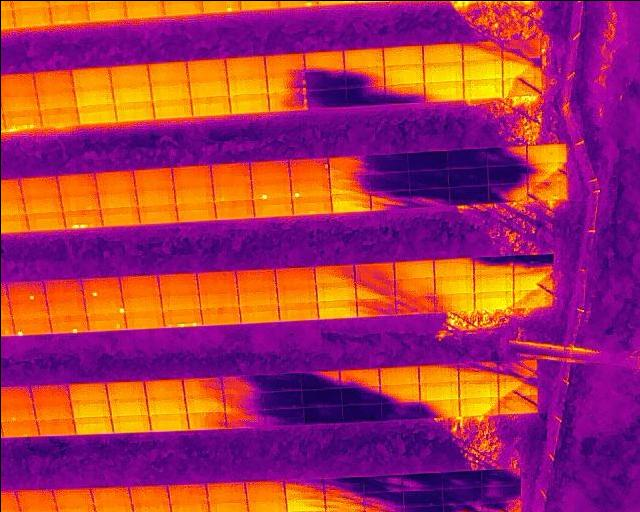Cell: (5, 281, 45, 302), (80, 277, 121, 297), (251, 179, 290, 199), (291, 177, 330, 197), (83, 296, 124, 315), (86, 314, 126, 332), (11, 318, 50, 335), (48, 316, 87, 333), (0, 403, 34, 420)
Cell-Multi: (3, 109, 41, 128), (162, 310, 202, 326)
No-Anomaly: (157, 273, 198, 295), (246, 481, 285, 504), (198, 270, 237, 293), (237, 268, 276, 291), (118, 276, 160, 297), (206, 482, 246, 504), (34, 70, 74, 92), (168, 483, 206, 506), (43, 279, 84, 300), (149, 61, 188, 83), (425, 80, 464, 102), (464, 77, 503, 99), (462, 59, 502, 80), (383, 45, 423, 66), (383, 63, 423, 84), (303, 49, 344, 69), (91, 486, 130, 507), (130, 485, 169, 506), (423, 61, 462, 82), (172, 164, 211, 185), (72, 68, 111, 89), (110, 64, 149, 85), (418, 362, 458, 382), (434, 274, 474, 294), (434, 257, 474, 277), (343, 47, 383, 67), (330, 192, 370, 212), (17, 491, 55, 512), (134, 165, 172, 186), (229, 92, 267, 113), (275, 266, 314, 286), (226, 54, 265, 74), (459, 397, 498, 417), (52, 488, 91, 508), (57, 172, 96, 192), (211, 162, 250, 182), (250, 159, 289, 179), (289, 156, 328, 176), (191, 95, 230, 115), (228, 74, 267, 94), (143, 378, 184, 397), (75, 86, 112, 107), (176, 201, 214, 221), (214, 198, 252, 218), (187, 59, 225, 79), (422, 43, 462, 62), (110, 413, 150, 432), (77, 102, 115, 122), (153, 97, 191, 117), (379, 364, 418, 383), (474, 290, 513, 309), (253, 199, 292, 218), (115, 100, 154, 119), (49, 3, 86, 23), (28, 383, 69, 401), (138, 204, 176, 223), (528, 143, 566, 162), (474, 273, 514, 291), (146, 395, 186, 413), (21, 174, 57, 194), (101, 206, 138, 225), (61, 191, 98, 210), (201, 306, 240, 324), (279, 302, 318, 320), (317, 300, 356, 318), (9, 299, 48, 317), (394, 259, 433, 277), (123, 0, 162, 18), (106, 381, 145, 399), (136, 185, 175, 203), (96, 170, 135, 188), (112, 85, 151, 103), (0, 73, 35, 93), (67, 382, 108, 399), (27, 211, 63, 230), (23, 194, 61, 212), (174, 183, 212, 201), (151, 81, 189, 99), (316, 282, 356, 299), (73, 416, 113, 433), (148, 413, 188, 430), (32, 402, 72, 419), (69, 399, 109, 416), (458, 380, 498, 397), (99, 188, 136, 206), (13, 8, 48, 27), (46, 299, 85, 316), (238, 289, 277, 306), (292, 197, 331, 214), (265, 53, 304, 70), (419, 381, 458, 398), (212, 182, 251, 199), (36, 92, 77, 108), (187, 412, 225, 429), (41, 108, 79, 125), (108, 399, 148, 415), (87, 1, 122, 19), (125, 296, 162, 313), (0, 93, 37, 110), (124, 313, 163, 329), (239, 306, 278, 322), (200, 291, 239, 307), (277, 286, 316, 302), (35, 418, 74, 434), (190, 78, 228, 94), (160, 295, 200, 310), (184, 396, 224, 411), (0, 420, 37, 435), (0, 385, 30, 403)
Shadowing: (328, 153, 369, 176), (329, 172, 370, 194), (497, 358, 537, 380), (315, 263, 355, 285), (369, 188, 409, 210), (182, 376, 223, 397), (384, 82, 425, 103), (285, 479, 325, 500), (527, 180, 567, 201), (408, 168, 448, 189), (502, 57, 542, 77), (409, 188, 449, 208), (368, 154, 408, 174), (266, 71, 306, 91), (355, 262, 394, 282), (325, 477, 364, 497), (448, 184, 487, 204), (448, 147, 487, 167), (267, 90, 306, 110), (307, 88, 346, 108), (503, 76, 542, 96), (305, 68, 344, 88), (346, 67, 385, 87), (514, 288, 555, 307), (407, 151, 448, 170), (486, 146, 527, 165), (434, 292, 474, 311), (395, 277, 435, 296), (474, 254, 514, 273), (363, 474, 403, 493), (487, 183, 527, 202), (368, 172, 408, 191), (346, 86, 384, 106), (513, 270, 555, 288), (448, 166, 487, 185), (513, 254, 554, 272), (260, 372, 301, 390), (441, 470, 482, 488), (487, 165, 528, 183), (395, 295, 433, 314), (502, 39, 540, 58), (403, 471, 441, 490), (363, 492, 403, 510), (419, 398, 459, 416), (339, 367, 379, 385), (480, 467, 520, 485), (356, 297, 395, 315), (462, 42, 501, 60), (302, 405, 341, 423), (341, 404, 380, 422), (380, 400, 419, 418), (223, 392, 262, 410), (340, 385, 379, 403), (380, 383, 419, 401), (403, 490, 442, 508), (527, 162, 566, 180), (222, 375, 263, 392), (482, 486, 520, 504), (356, 280, 394, 298), (442, 488, 482, 505), (498, 397, 538, 414), (301, 387, 341, 404), (498, 380, 538, 397), (299, 370, 339, 387), (458, 363, 497, 380), (263, 407, 302, 424), (262, 390, 301, 407), (225, 410, 263, 427)
Unclassified: (63, 208, 101, 228)
